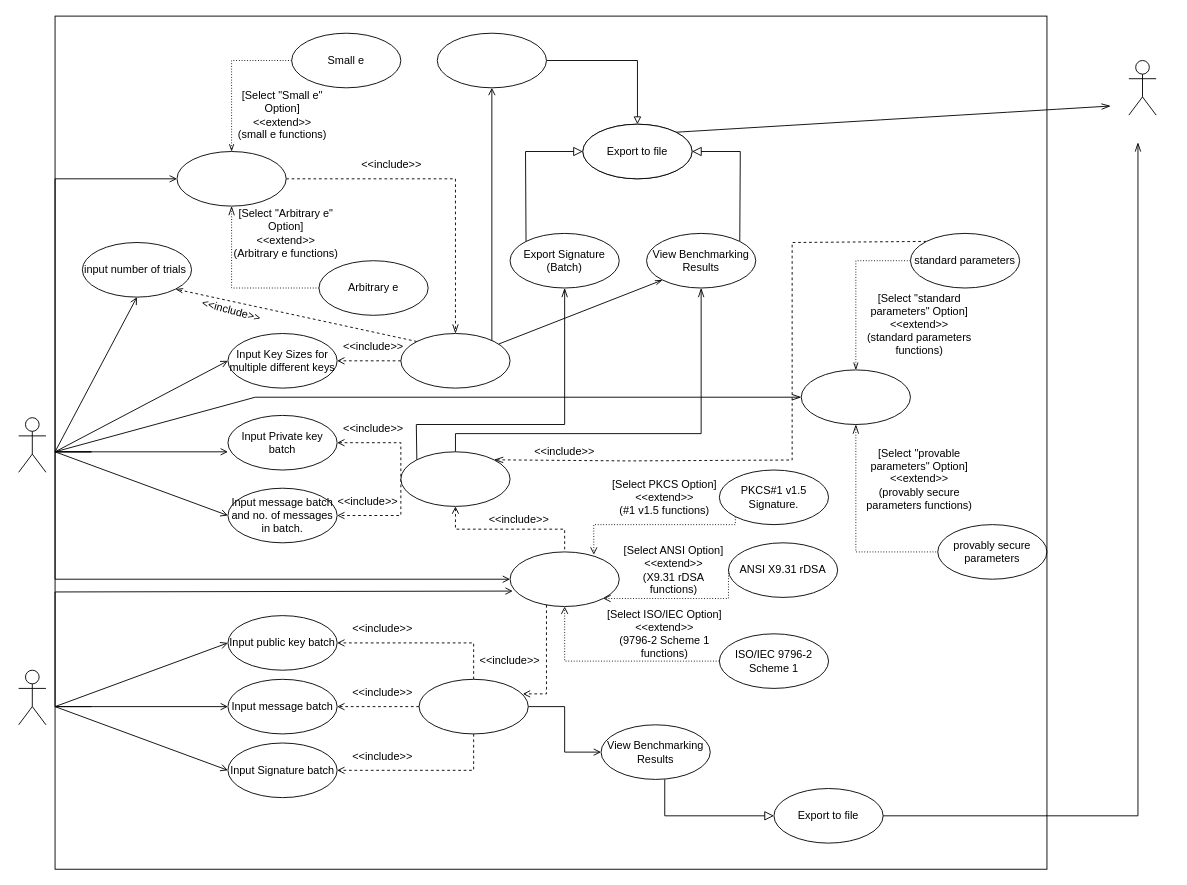
The diagram is 1187 pixels wide and 885 high, and some of its shapes have lost their labels. Each missing label, with the centre of its shape:
Export Key Pair (batches): the point at 491,60
File System: the point at 1142,87
Run Key Generation Benchmarking: the point at 455,360
Run Signature Creation Benchmarking: the point at 455,478
Run Signature Verification Benchmarking: the point at 473,706
Select choice of e for each selected key: the point at 231,178
Select parameter choice: the point at 855,397
Select Scheme: the point at 564,579
Signer: the point at 32,444
Verifier: the point at 32,697
